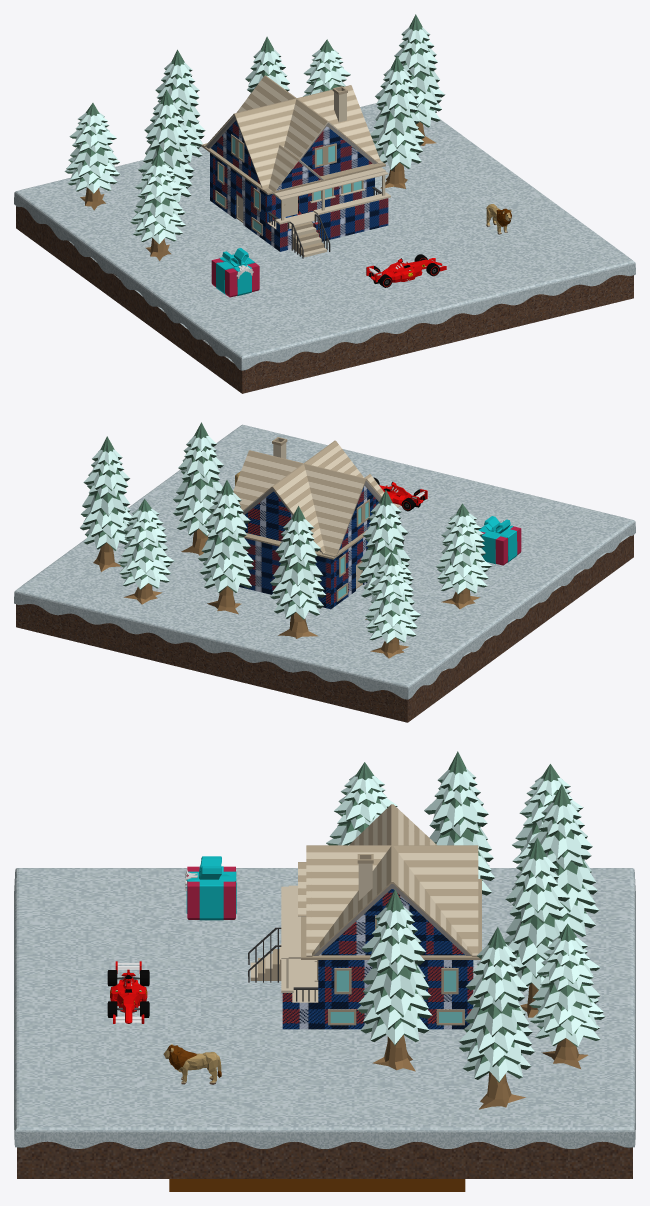
3 views of the same model, one above another, from view 1: azimuth 30°, elevation 25°; view 2: azimuth 150°, elevation 25°; view 3: azimuth 270°, elevation 25° (orthographic). The views are drawn at different scales.
Parts seen in each view (by area): view 1: Cube.003, Cube.171, OBJRANDOM_GIANT_PRESENT, VEHICLES_FORMULA_1; view 2: Cube.003, Cube.171, OBJRANDOM_GIANT_PRESENT, VEHICLES_FORMULA_1; view 3: Cube.003, Cube.171, UNDERGROUND_ART_PIECE_VAN_GOGH, OBJRANDOM_GIANT_PRESENT, VEHICLES_FORMULA_1, ANIMAL_LEON.
Boxes of the visible parts, x1,y1,x2,y2 form: Cube.003: (14, 14, 635, 393); Cube.171: (201, 75, 390, 258); OBJRANDOM_GIANT_PRESENT: (211, 248, 259, 297); VEHICLES_FORMULA_1: (366, 254, 446, 287); Cube.003: (14, 422, 635, 722); Cube.171: (233, 437, 403, 609); OBJRANDOM_GIANT_PRESENT: (479, 516, 521, 565); VEHICLES_FORMULA_1: (373, 477, 427, 511); Cube.003: (14, 751, 635, 1178); Cube.171: (248, 804, 481, 1029); UNDERGROUND_ART_PIECE_VAN_GOGH: (169, 1179, 465, 1191); OBJRANDOM_GIANT_PRESENT: (185, 856, 236, 920); VEHICLES_FORMULA_1: (107, 961, 149, 1023); ANIMAL_LEON: (163, 1044, 221, 1084).
Size of the model in its own units: 4040 by 1818 by 4040.
32 materials, 5 textured.
